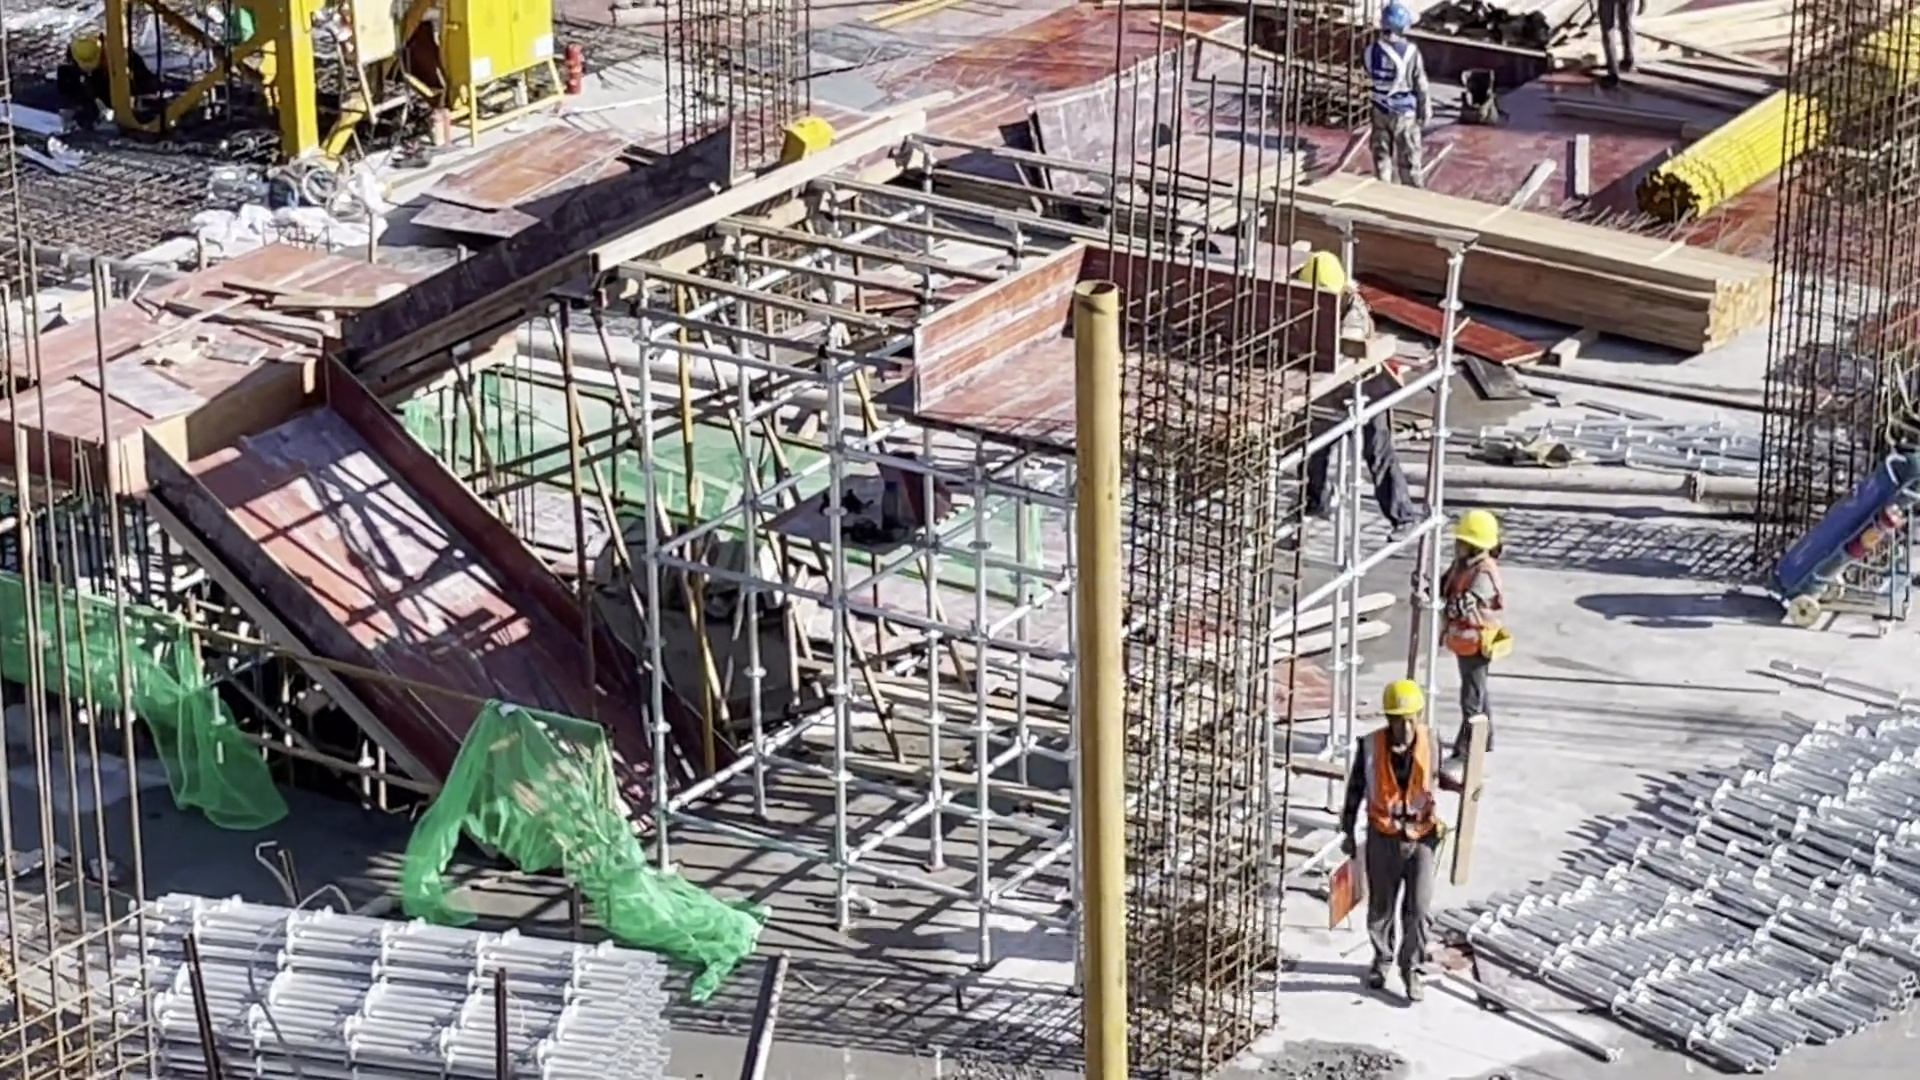ebox: (439, 1, 576, 143)
helmet: (1454, 508, 1499, 550), (1377, 680, 1426, 710), (1307, 250, 1343, 287), (66, 38, 96, 68), (1383, 5, 1411, 36)
person: (1332, 675, 1455, 1000), (1304, 252, 1418, 532), (1403, 506, 1518, 749), (1362, 5, 1433, 194), (56, 32, 149, 130), (1585, 2, 1659, 79)
scaffold: (1432, 694, 1920, 1073), (120, 890, 666, 1080)
vest: (1359, 730, 1441, 832), (1441, 556, 1504, 657), (1373, 40, 1417, 112)
wood: (1257, 171, 1776, 357)
